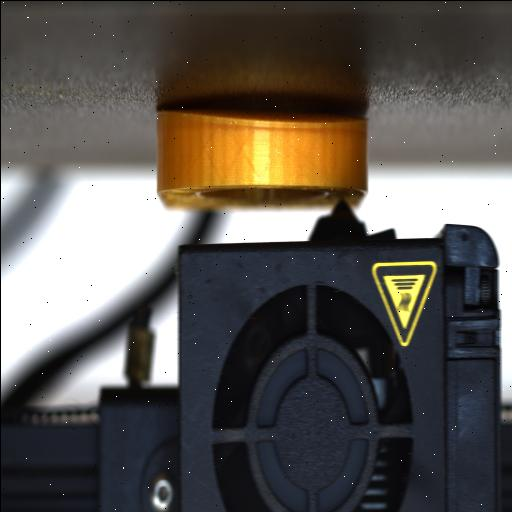warp: (156, 106, 360, 130)
